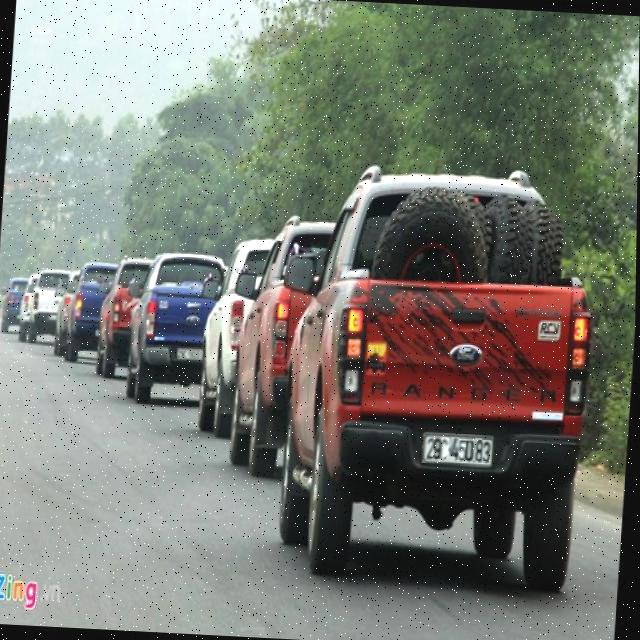car: (259, 162, 602, 601), (104, 249, 232, 409), (56, 256, 122, 369), (14, 262, 77, 343)
plate: (418, 428, 499, 471)
